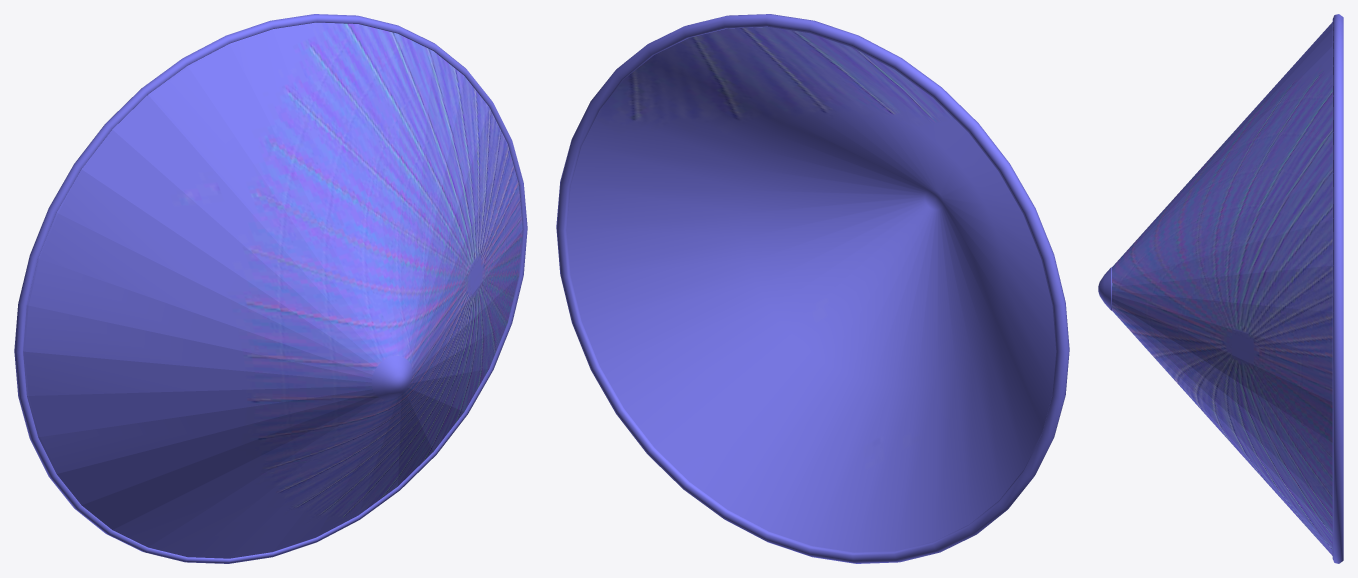
The model's file is Headwear22.glb.
The picture shows the model from 3 angles, left to right: view 1: azimuth 30°, elevation 25°; view 2: azimuth 150°, elevation 25°; view 3: azimuth 270°, elevation 25°; orthographic projection. The views are drawn at different scales.
Parts seen in each view (by area): view 1: Headwear22; view 2: Headwear22; view 3: Headwear22.
Boxes of the visible parts, x1=… form: Headwear22: x1=14, y1=14, x2=527, y2=563; Headwear22: x1=556, y1=14, x2=1069, y2=563; Headwear22: x1=1098, y1=14, x2=1343, y2=563.
Bounding box in the file's own units: 3.17 × 3.17 × 1.41.
1 material, 1 textured.
